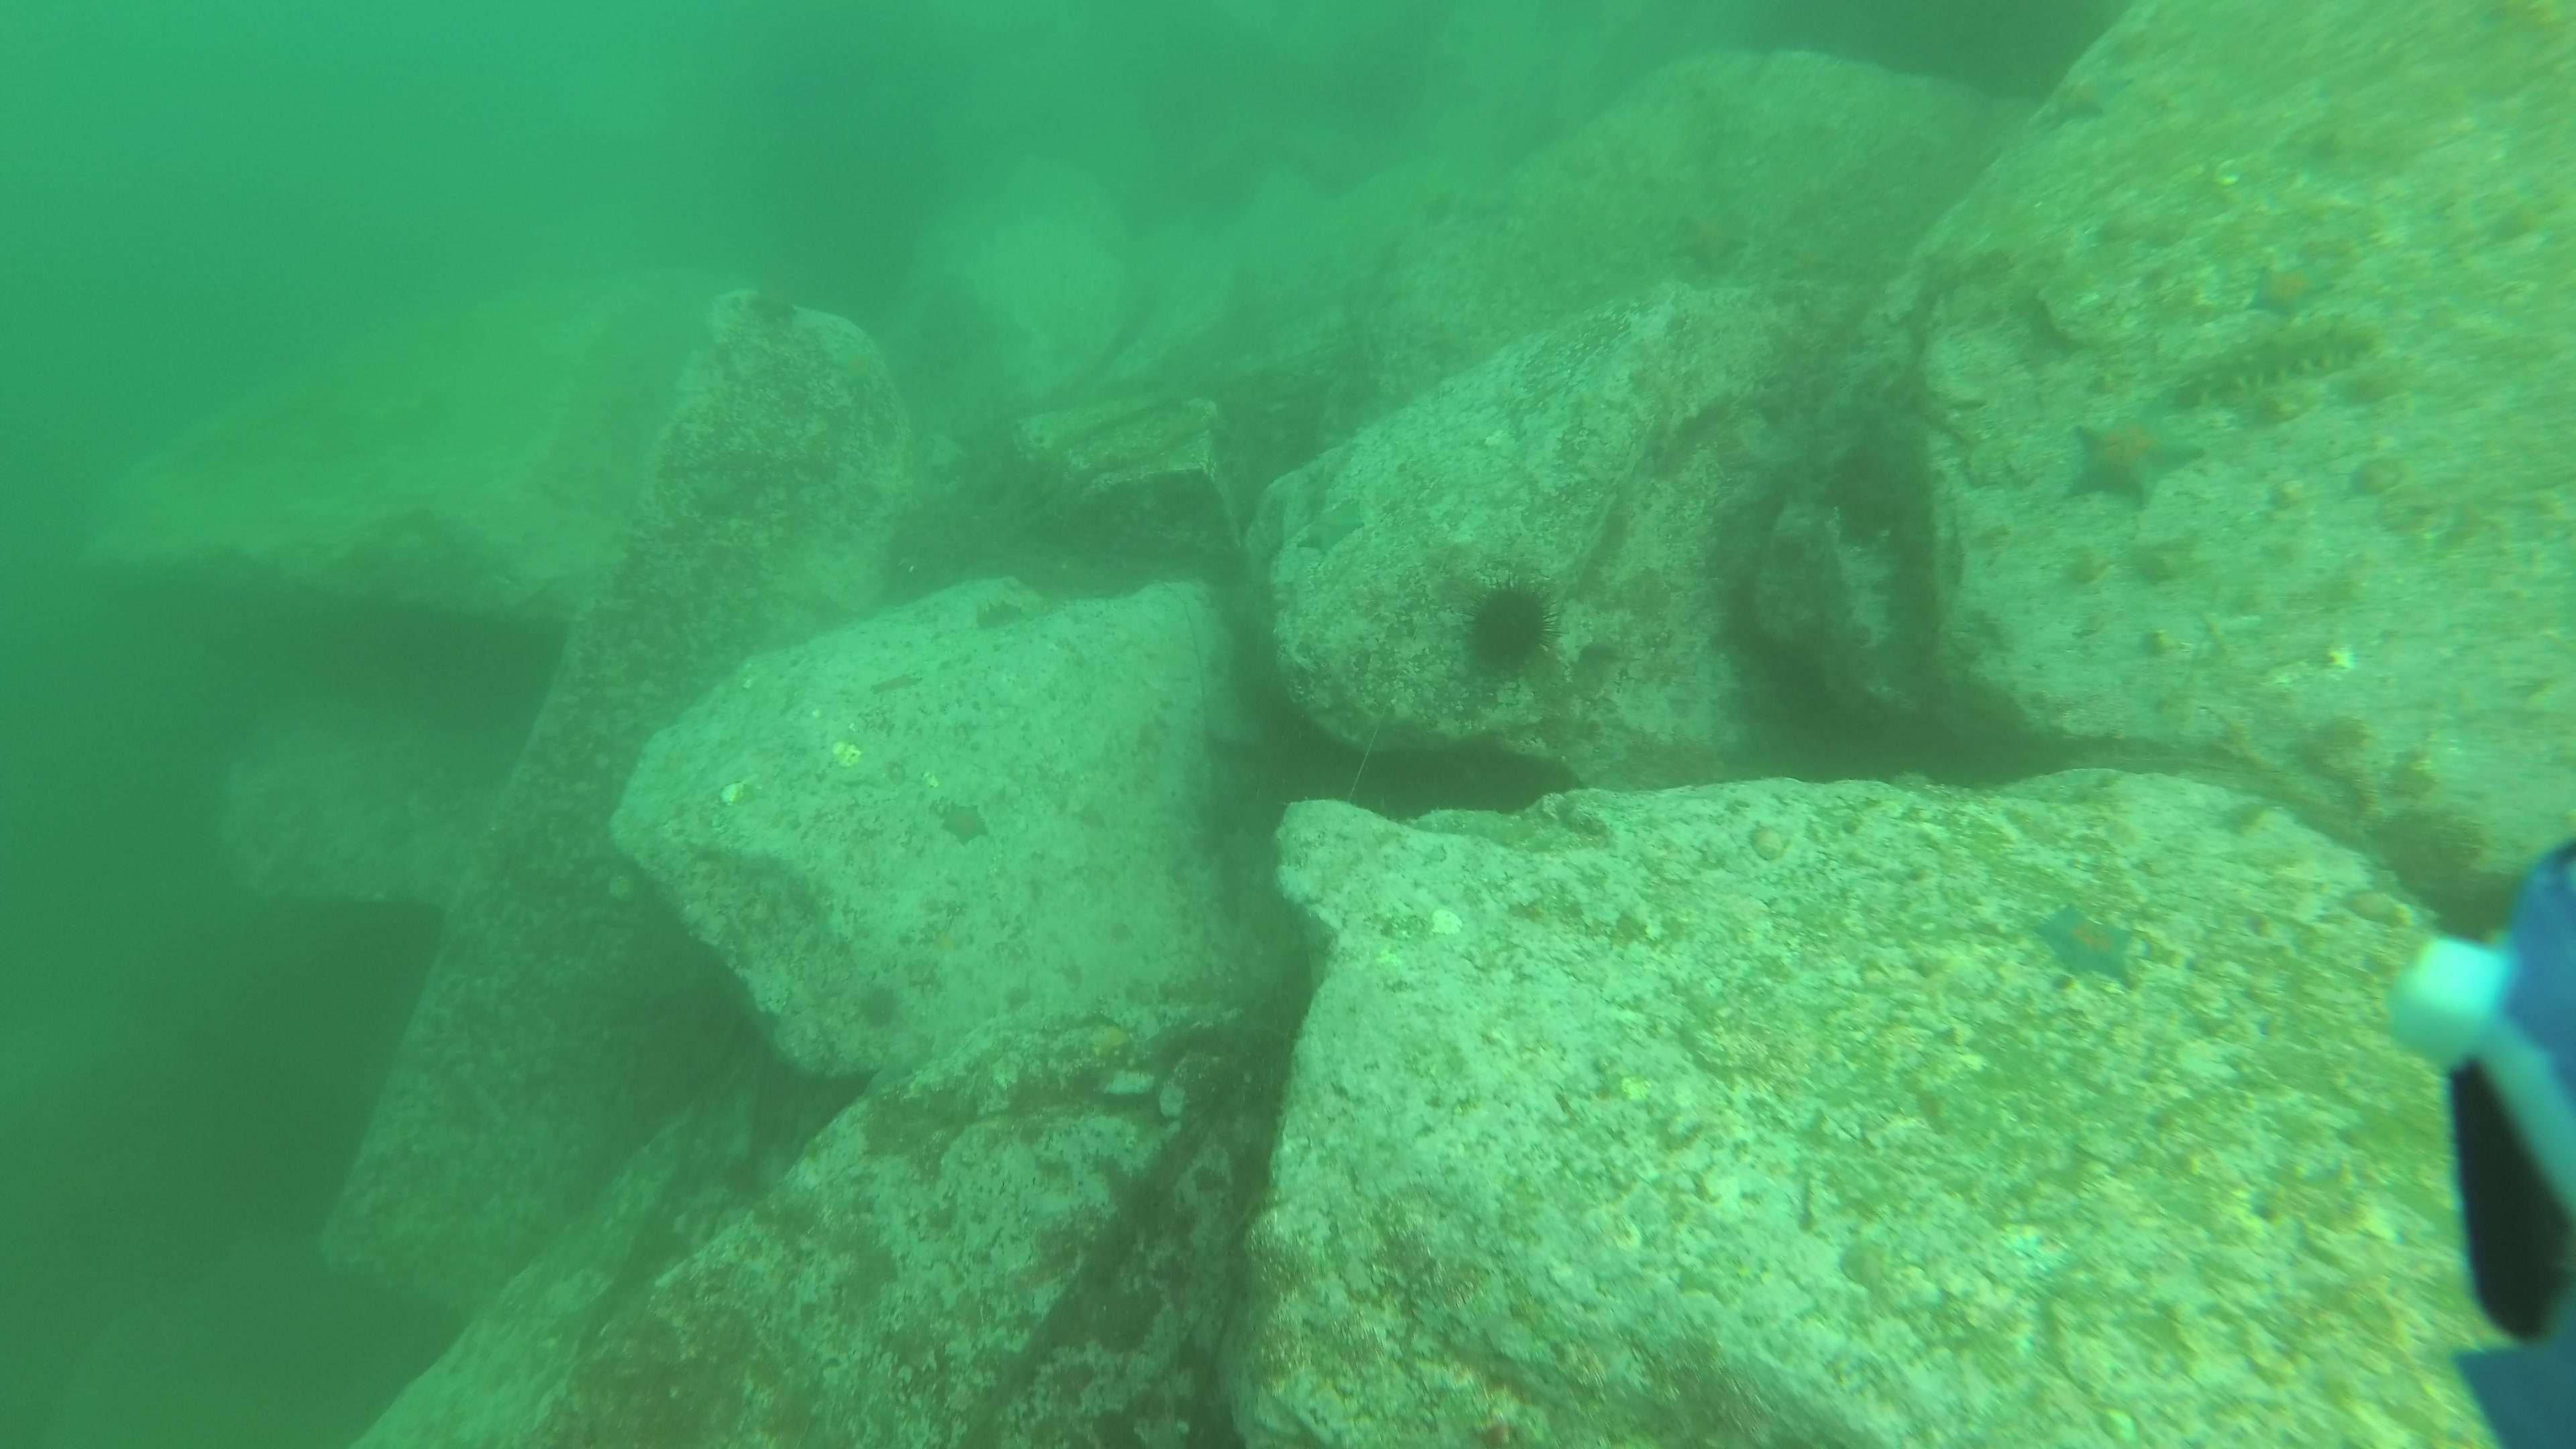echinus: (1463, 570, 1566, 671)
holothurian: (2166, 317, 2378, 409), (970, 596, 1033, 632)
starfish: (2065, 405, 2210, 515), (2029, 897, 2141, 982), (2249, 253, 2337, 326), (1668, 205, 1755, 274), (2049, 64, 2139, 126), (1293, 494, 1369, 557), (936, 796, 996, 847), (1419, 188, 1465, 232), (748, 288, 800, 326)
